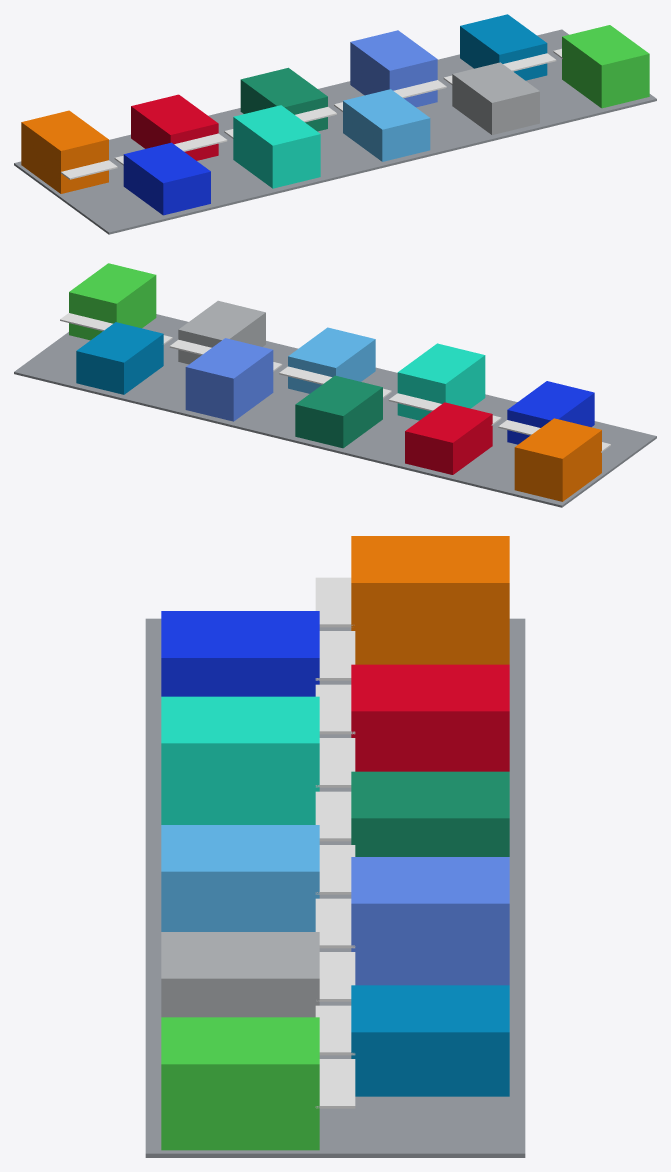
The model's file is paddock.glb.
3 views of the same model, one above another, from view 1: azimuth 30°, elevation 25°; view 2: azimuth 150°, elevation 25°; view 3: azimuth 270°, elevation 25° (orthographic). The views are drawn at different scales.
Parts seen in each view (by area): view 1: paddock; view 2: paddock; view 3: paddock.
Boxes of the visible parts, x1=… form: paddock: x1=14, y1=14, x2=656, y2=234; paddock: x1=14, y1=263, x2=656, y2=507; paddock: x1=145, y1=536, x2=525, y2=1157.
Bounding box in the file's own units: 80 × 6.3 × 24.
